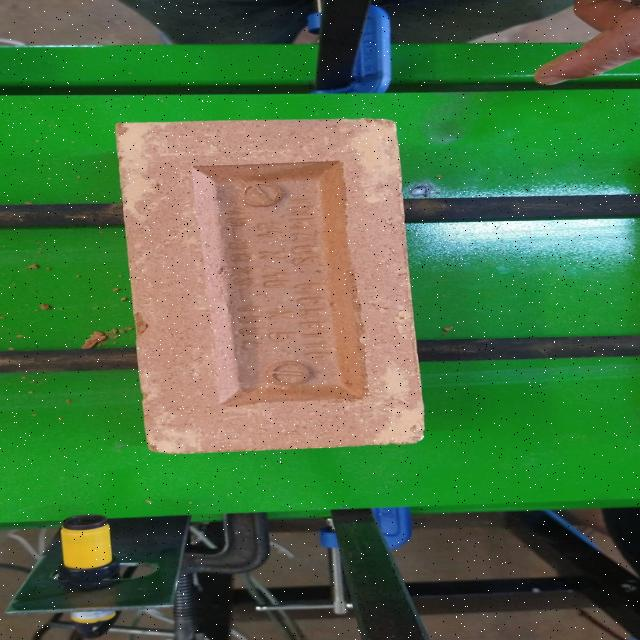bricks: (115, 117, 426, 455)
